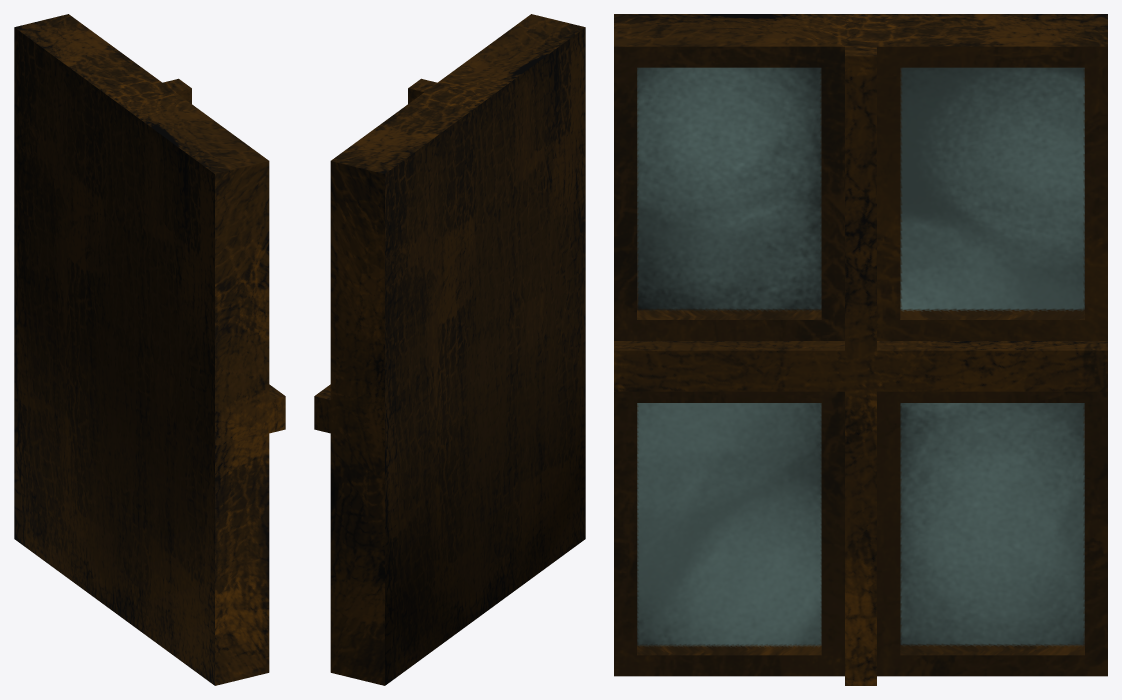
The model's file is fenetre.fbx.
The picture shows the model from 3 angles, left to right: view 1: azimuth 30°, elevation 25°; view 2: azimuth 150°, elevation 25°; view 3: azimuth 270°, elevation 25°; orthographic projection. The views are drawn at different scales.
Parts seen in each view (by area): view 1: Box002; view 2: Box002; view 3: Box002.
Part boxes in pixels (box(x1,y1,x2,y2)): Box002: box(14, 14, 285, 685); Box002: box(314, 14, 585, 685); Box002: box(614, 14, 1107, 685).
Size of the model in its own units: 65 by 450 by 320.
Materials: 1 (1 with a texture image).
